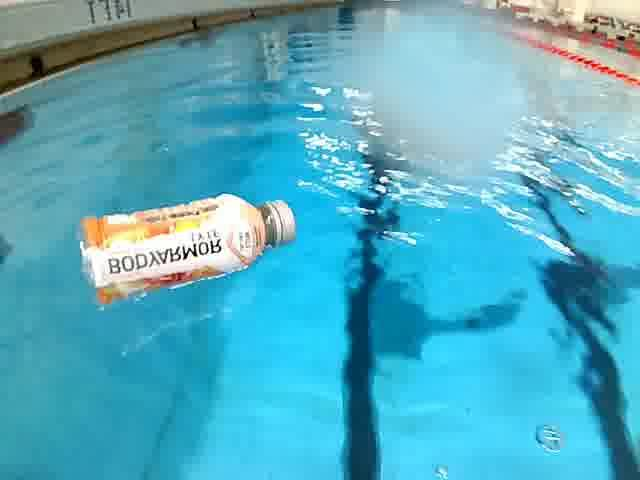Bottle: (74, 186, 303, 312)
